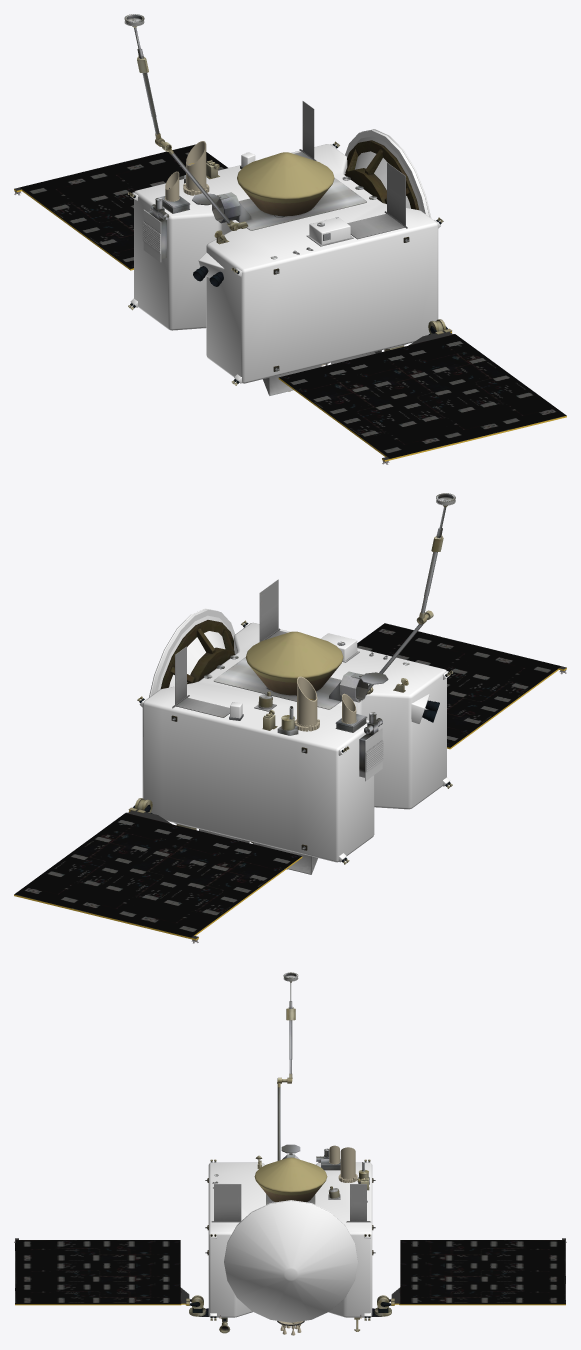
Rendered from osiris-rex.glb.
3 renders of one model, top to bottom at view 1: azimuth 30°, elevation 25°; view 2: azimuth 150°, elevation 25°; view 3: azimuth 270°, elevation 25°, orthographic. The views are drawn at different scales.
Parts seen in each view (by area): view 1: Bus_plate_mounting, BUS, HGA, Bronze_Dome, Array; view 2: Bus_plate_mounting, BUS, Bronze_Dome, HGA, Array; view 3: Bus_plate_mounting, HGA, BUS, Bronze_Dome, Array.
Part boxes in pixels (x1,y1,x2,y2): Bus_plate_mounting: (14,14,566,459); BUS: (130,144,440,383); HGA: (345,129,431,217); Bronze_Dome: (164,141,325,391); Array: (14,163,566,461); Bus_plate_mounting: (14,493,566,938); BUS: (139,622,450,862); Bronze_Dome: (250,676,356,869); HGA: (149,608,235,697); Array: (14,668,566,940); Bus_plate_mounting: (15,972,565,1333); HGA: (224,1200,357,1322); BUS: (208,1162,372,1317); Bronze_Dome: (277,1145,357,1335); Array: (15,1303,565,1305).
Size of what is drawn, in the model's own units: 4.91 by 6.34 by 10.57.
9 materials, 2 textured.
